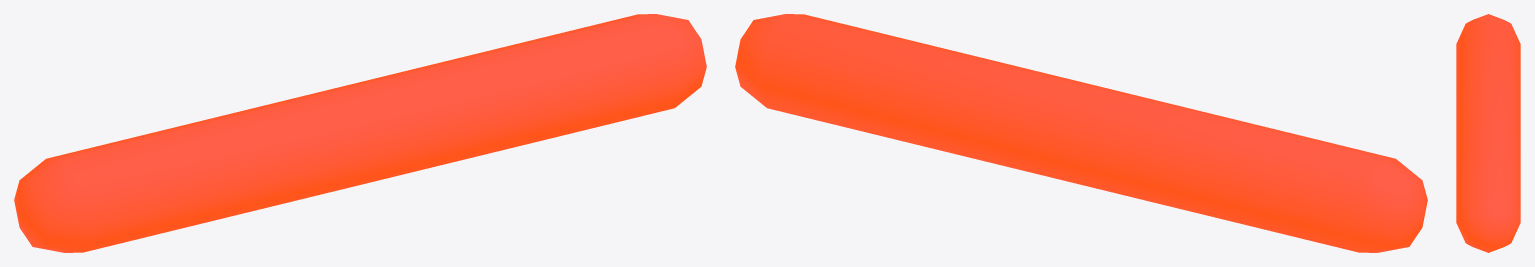
The model's file is Mdl.RedShortLaser.fbx.
3 views of the same model, side by side, from view 1: azimuth 30°, elevation 25°; view 2: azimuth 150°, elevation 25°; view 3: azimuth 270°, elevation 25° (orthographic). The views are drawn at different scales.
Parts seen in each view (by area): view 1: RedShortLaser; view 2: RedShortLaser; view 3: RedShortLaser.
Part boxes in pixels (box(x1,y1,x2,y2)): RedShortLaser: box(14, 14, 706, 252); RedShortLaser: box(735, 14, 1427, 252); RedShortLaser: box(1456, 14, 1520, 252).
Size of the model in its own units: 0.4004 by 0.053 by 0.053.
